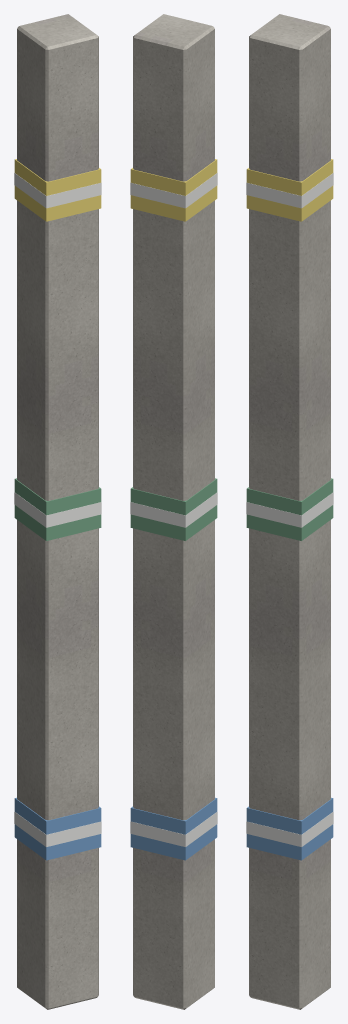
Rendered from column.glb.
3 views of the same model, side by side, from view 1: azimuth 30°, elevation 25°; view 2: azimuth 150°, elevation 25°; view 3: azimuth 330°, elevation 25° (orthographic).
Parts seen in each view (by area): view 1: column_concrete, column_paint_w, column_paint_y, column_paint_b, column_paint_g; view 2: column_concrete, column_paint_w, column_paint_y, column_paint_b, column_paint_g; view 3: column_concrete, column_paint_w, column_paint_y, column_paint_b, column_paint_g.
Boxes of the visible parts, x1,y1,x2,y2 form: column_concrete: (17,14,98,1009); column_paint_w: (14,173,101,846); column_paint_y: (14,159,101,221); column_paint_b: (14,797,101,860); column_paint_g: (14,478,101,540); column_concrete: (133,14,214,1009); column_paint_w: (130,173,217,846); column_paint_y: (130,159,217,221); column_paint_b: (130,797,217,860); column_paint_g: (130,478,217,540); column_concrete: (249,14,330,1009); column_paint_w: (246,173,333,846); column_paint_y: (246,159,333,221); column_paint_b: (246,797,333,860); column_paint_g: (246,478,333,540).
Size of the model in its own units: 0.516 by 8.59 by 0.516.
Materials: 5 (1 with a texture image).
